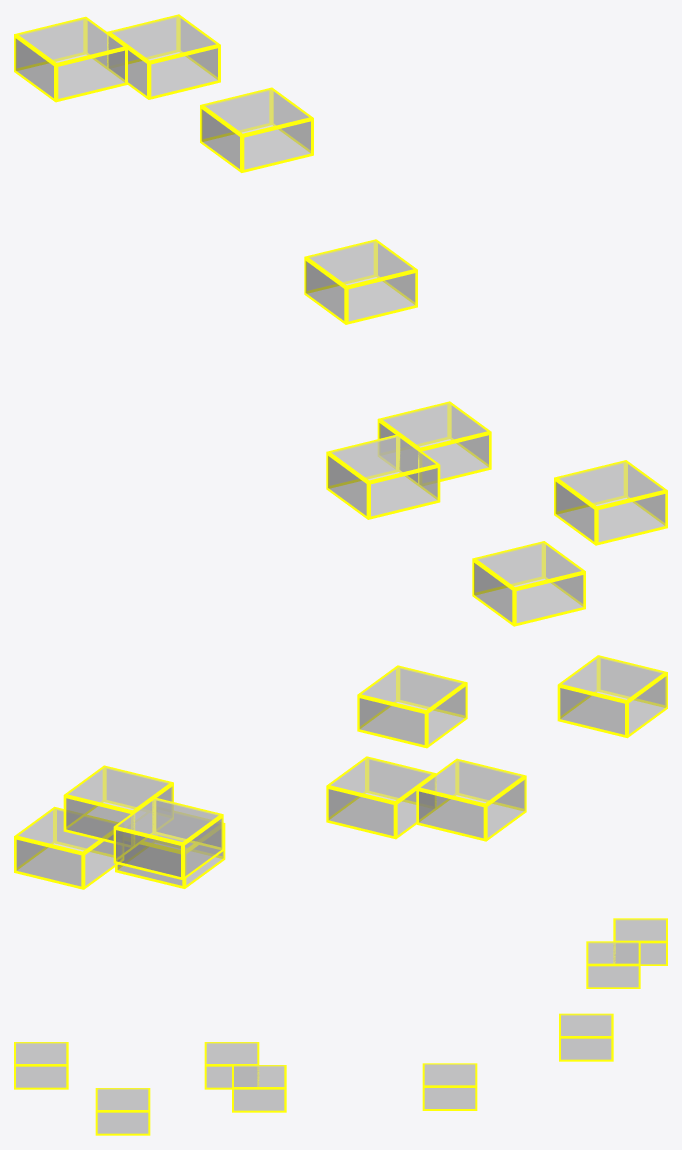
The model's file is (6)M Plat.fbx.
The picture shows the model from 3 angles, top to bottom: view 1: azimuth 30°, elevation 25°; view 2: azimuth 150°, elevation 25°; view 3: azimuth 270°, elevation 25°; orthographic projection. The views are drawn at different scales.
Visible parts, largest first — view 1: Platform.007, Platform.005, Platform.004, Platform.009, Platform.010, Platform.002, Platform.003, Platform.006; view 2: Platform.004, Platform.007, Platform.002, Platform.005, Platform.006, Platform.010, Platform.003, Platform.009; view 3: Platform.010, Platform.004, Platform.009, Platform.003, Platform.005, Platform.006, Platform.002, Platform.007.
Boxes of the visible parts, x1,y1,x2,y2 form: Platform.007: [326, 434, 440, 519]; Platform.005: [472, 541, 585, 626]; Platform.004: [554, 460, 667, 545]; Platform.009: [304, 239, 417, 324]; Platform.010: [200, 87, 313, 172]; Platform.002: [14, 16, 127, 102]; Platform.003: [107, 14, 220, 99]; Platform.006: [377, 401, 491, 485]; Platform.004: [357, 665, 467, 748]; Platform.007: [416, 758, 526, 841]; Platform.002: [113, 797, 223, 880]; Platform.005: [557, 655, 667, 738]; Platform.006: [326, 756, 436, 839]; Platform.010: [14, 806, 124, 889]; Platform.003: [63, 765, 173, 847]; Platform.009: [115, 811, 225, 888]; Platform.010: [559, 1013, 613, 1061]; Platform.004: [95, 1088, 150, 1135]; Platform.009: [422, 1063, 477, 1110]; Platform.003: [586, 941, 640, 988]; Platform.005: [14, 1042, 68, 1089]; Platform.006: [232, 1065, 286, 1112]; Platform.002: [613, 918, 667, 965]; Platform.007: [204, 1042, 259, 1089].
Size of the model in its own units: 600 by 600 by 2400.
